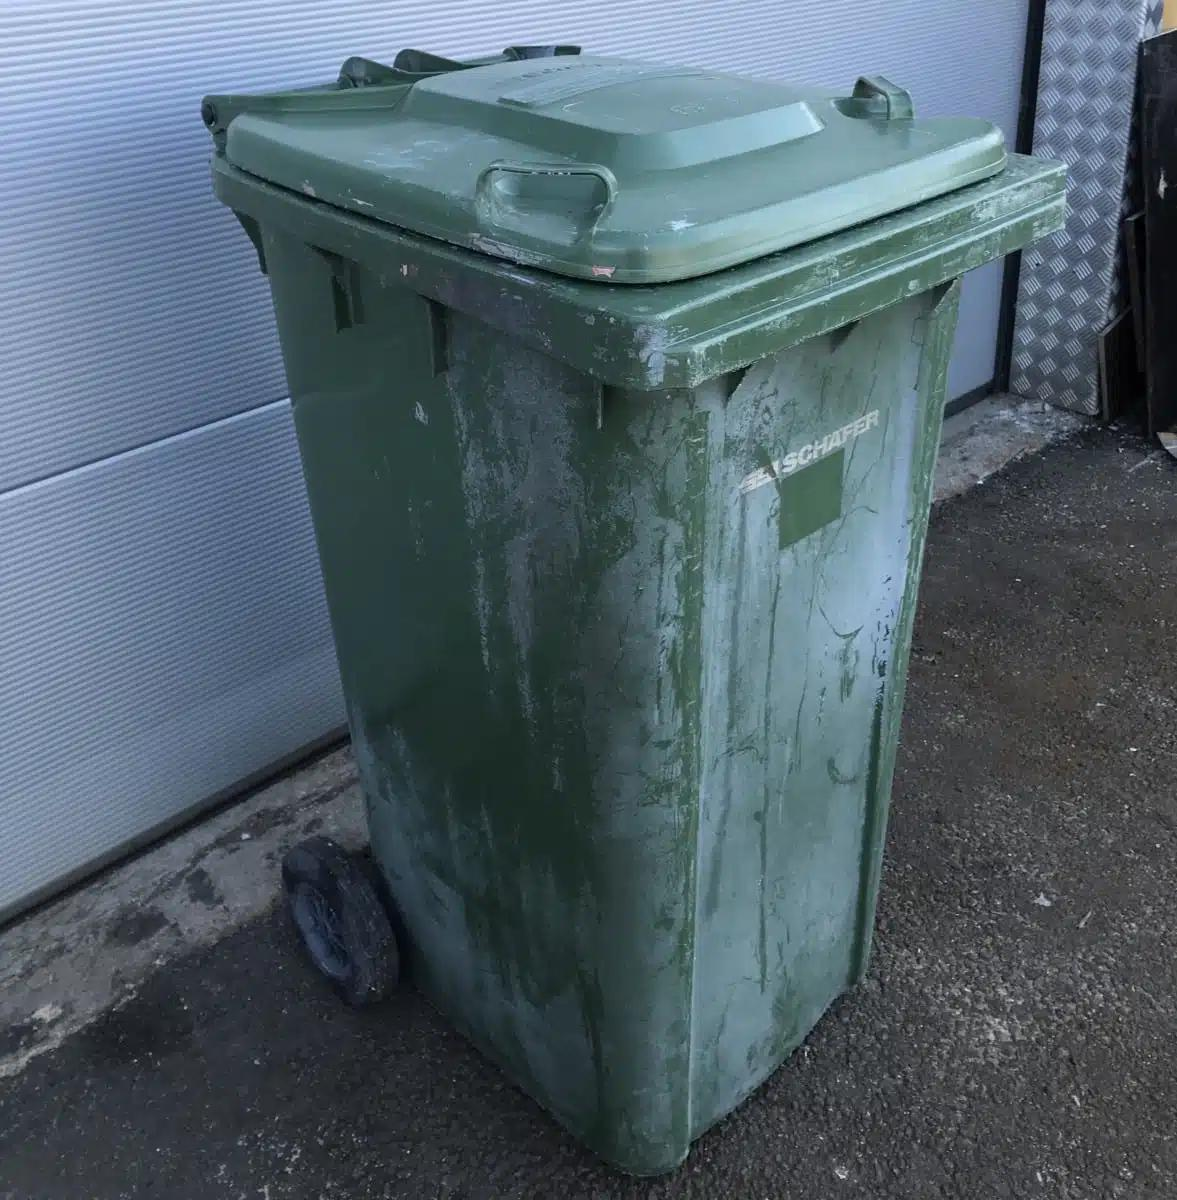trash bin: (203, 35, 1058, 1190)
